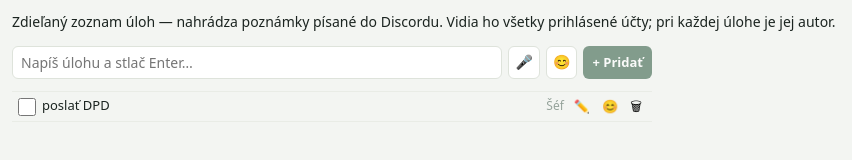
Test: edit režim ukáže text-insert picker a schová riadkový pick picker
The width and height of the screenshot is (852, 160).
Check: the element with test id "uloha-row-task-a" is shown, box [12,91,652,122]
Check: the button with test id "uloha-emoji-task-a" is shown, box [598,96,622,117]
Click the button with test id "uloha-edit-task-a": point(582, 107) [570,96,594,117]
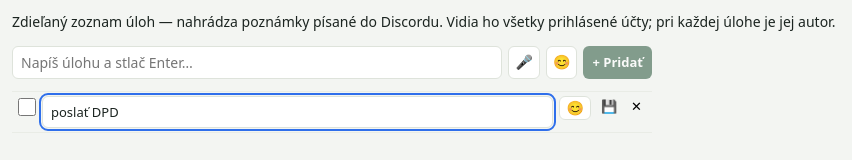
Check: the button with test id "uloha-edit-emoji-task-a" is shown, box [559,96,591,120]
Check: the button with test id "uloha-emoji-task-a" is gone
